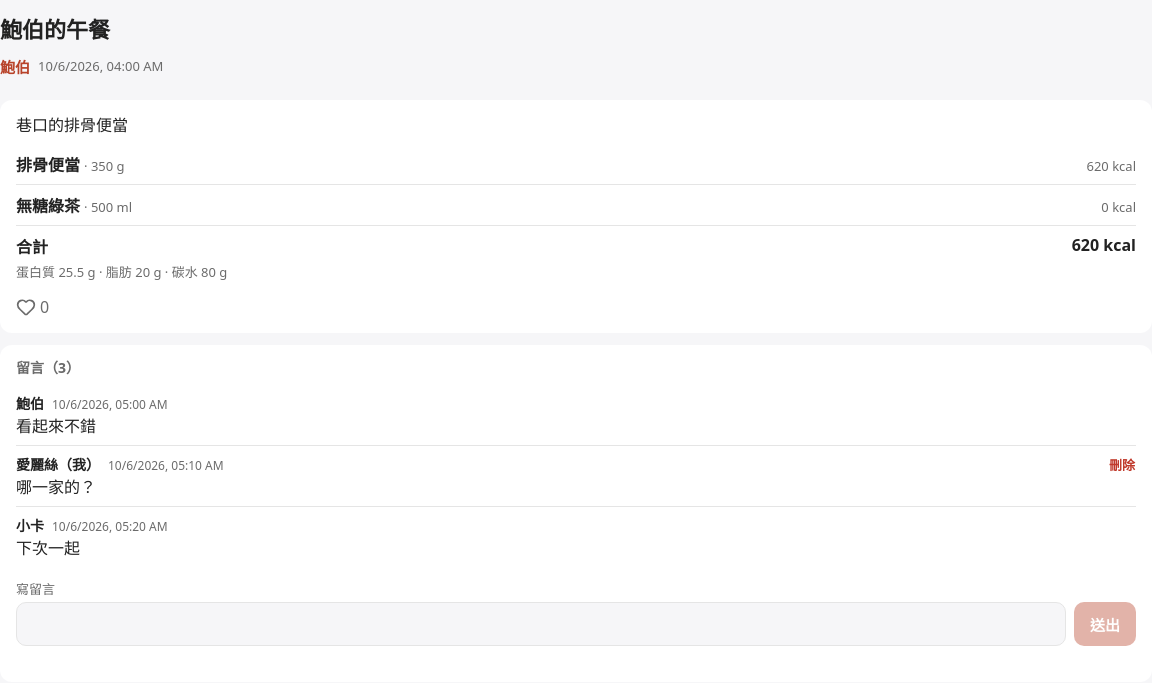
Test: 餐點頁：看不到、載入失敗 › 刪留言時那一餐已經看不到了（404 MEAL_NOT_FOUND）：整頁換成「看不到這一餐」
Click the button with aria-label "刪除 愛麗絲 的留言" at x=1122, y=464, box [1100,442,1144,486]
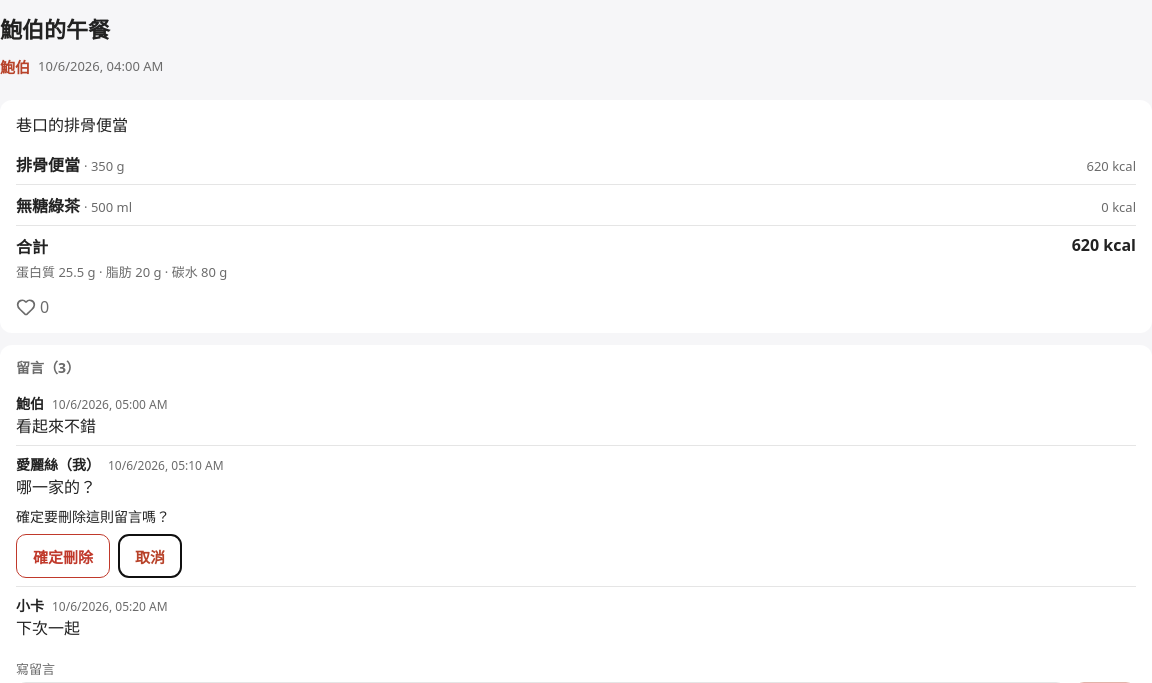
Click the button "確定刪除" at x=63, y=556, box [16,534,110,578]
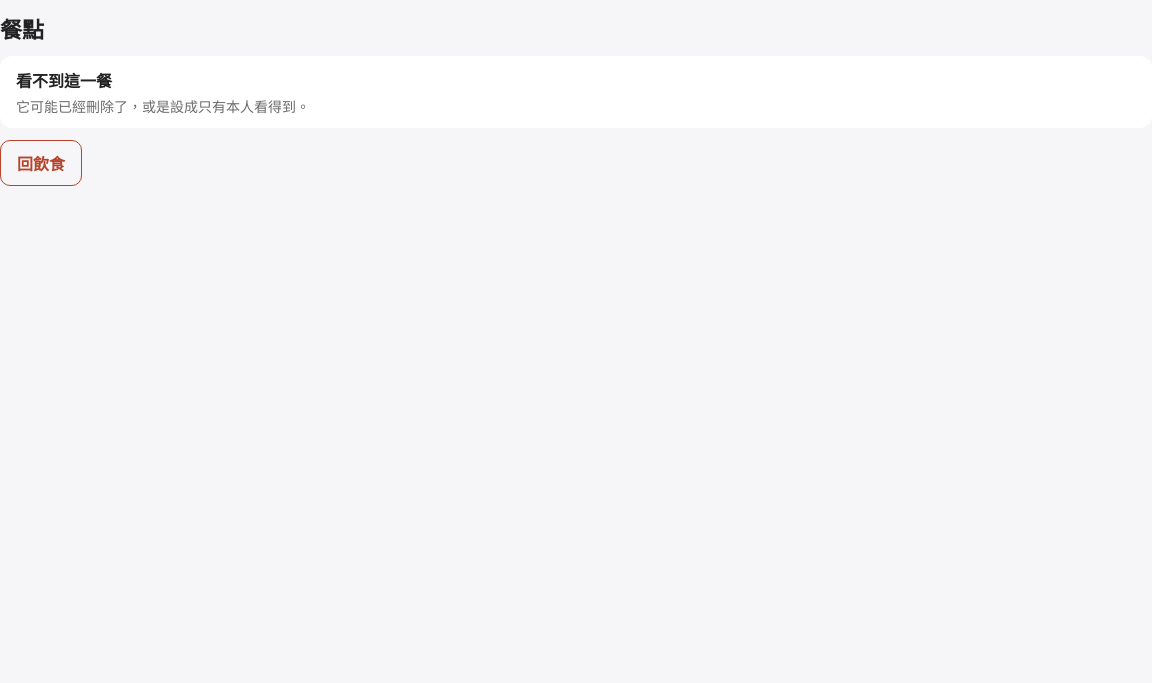
Expected: the text "看不到這一餐" is shown, [16,70,112,92]
